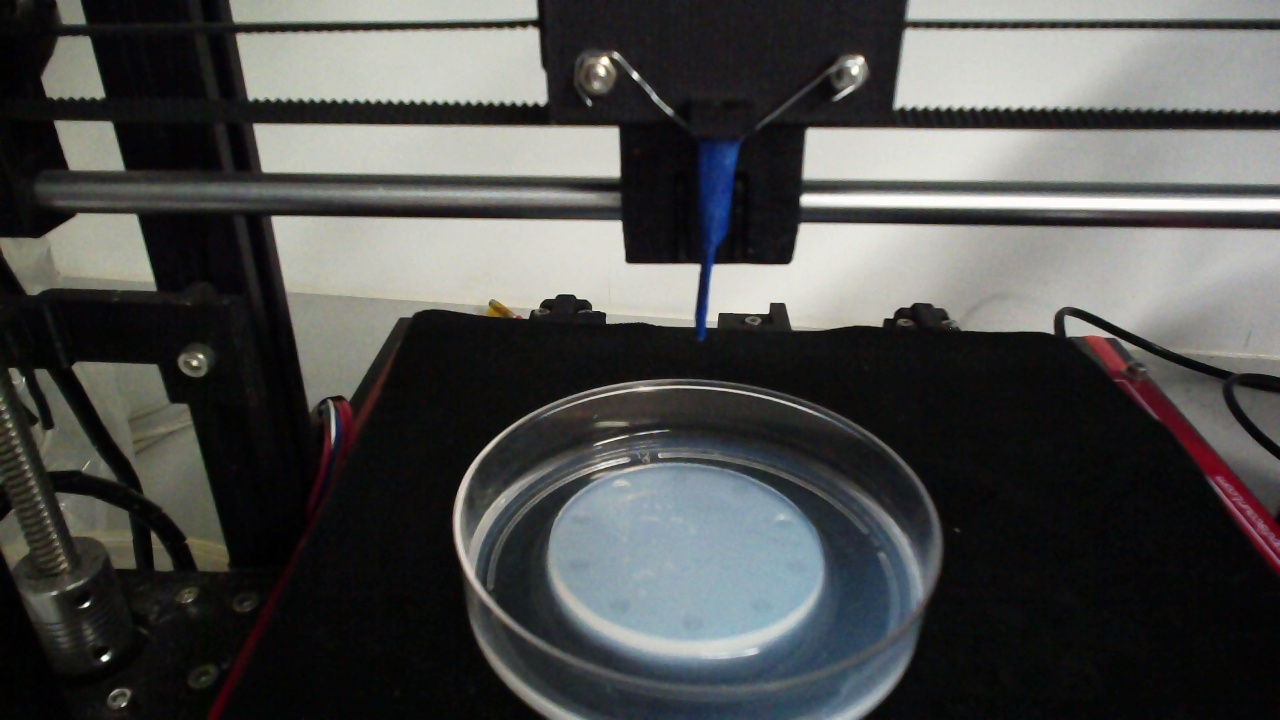groove: (606, 594, 635, 613), (749, 594, 773, 616), (771, 512, 798, 531), (679, 611, 703, 631), (783, 558, 807, 576), (564, 555, 589, 572), (570, 510, 591, 528), (731, 483, 750, 497), (611, 479, 631, 492), (669, 472, 690, 484)
needle: (695, 141, 740, 339)
